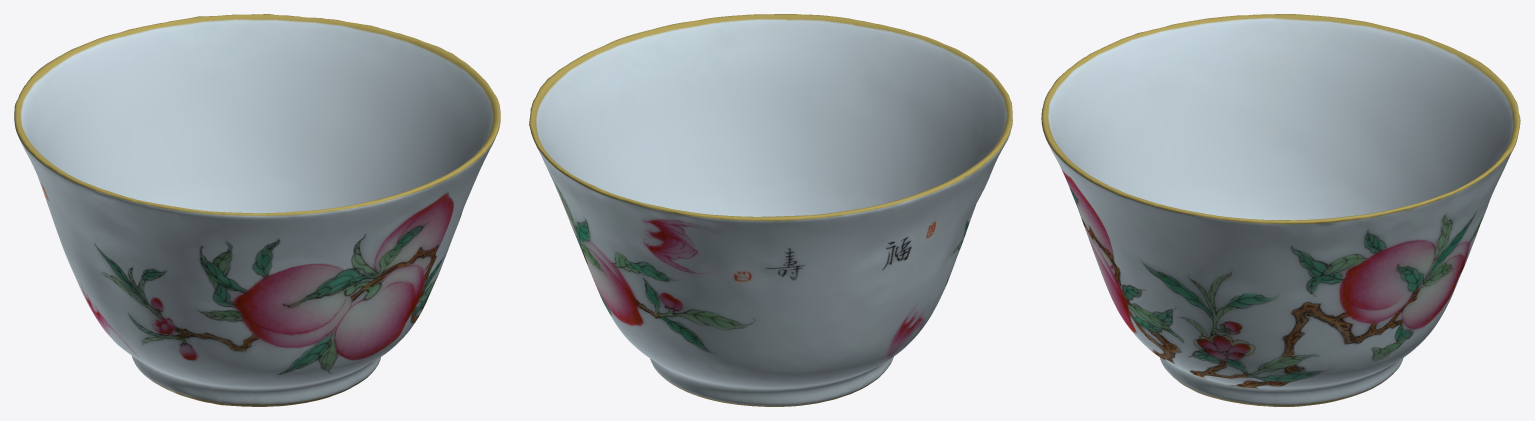
3 renders of one model, left to right at view 1: azimuth 30°, elevation 25°; view 2: azimuth 150°, elevation 25°; view 3: azimuth 270°, elevation 25°, orthographic.
Parts seen in each view (by area): view 1: taozibei_L; view 2: taozibei_L; view 3: taozibei_L.
Part boxes in pixels (left/top/right/bottom): taozibei_L: left=14, top=14, right=500, bottom=406; taozibei_L: left=529, top=14, right=1012, bottom=406; taozibei_L: left=1041, top=14, right=1520, bottom=406.
Size of the model in its own units: 74.02 by 41.38 by 73.53.
Materials: 1 (1 with a texture image).
